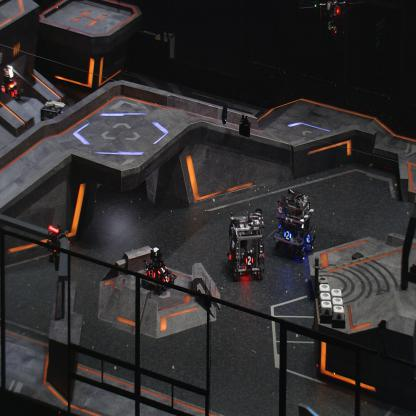car: (272, 186, 316, 262), (226, 209, 265, 281), (140, 246, 176, 296), (39, 100, 69, 141), (0, 64, 24, 105)
